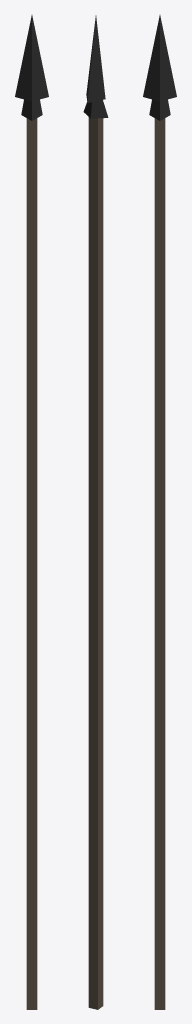
Rendered from Spear_04.fbx.
3 renders of one model, left to right at view 1: azimuth 90°, elevation 25°; view 2: azimuth 150°, elevation 25°; view 3: azimuth 270°, elevation 25°, orthographic.
Visible parts, largest first — view 1: pCylinder300; view 2: pCylinder300; view 3: pCylinder300.
Boxes of the visible parts, box(x1,y1,x2,y2) form: pCylinder300: box(15, 15, 48, 1009); pCylinder300: box(83, 15, 108, 1009); pCylinder300: box(143, 15, 176, 1009).
Bounding box in the file's own units: 0.089 × 3.38 × 0.1055.
